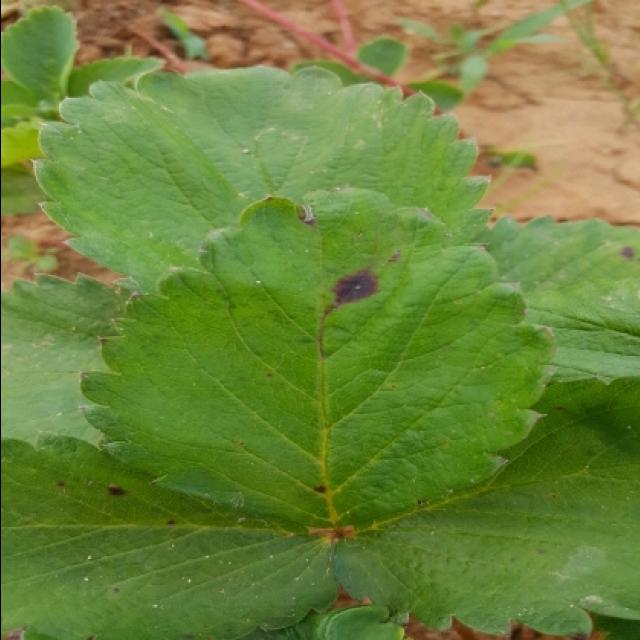Leaf Spot: (79, 187, 559, 534), (330, 376, 640, 638), (2, 433, 336, 638), (469, 213, 640, 386)
